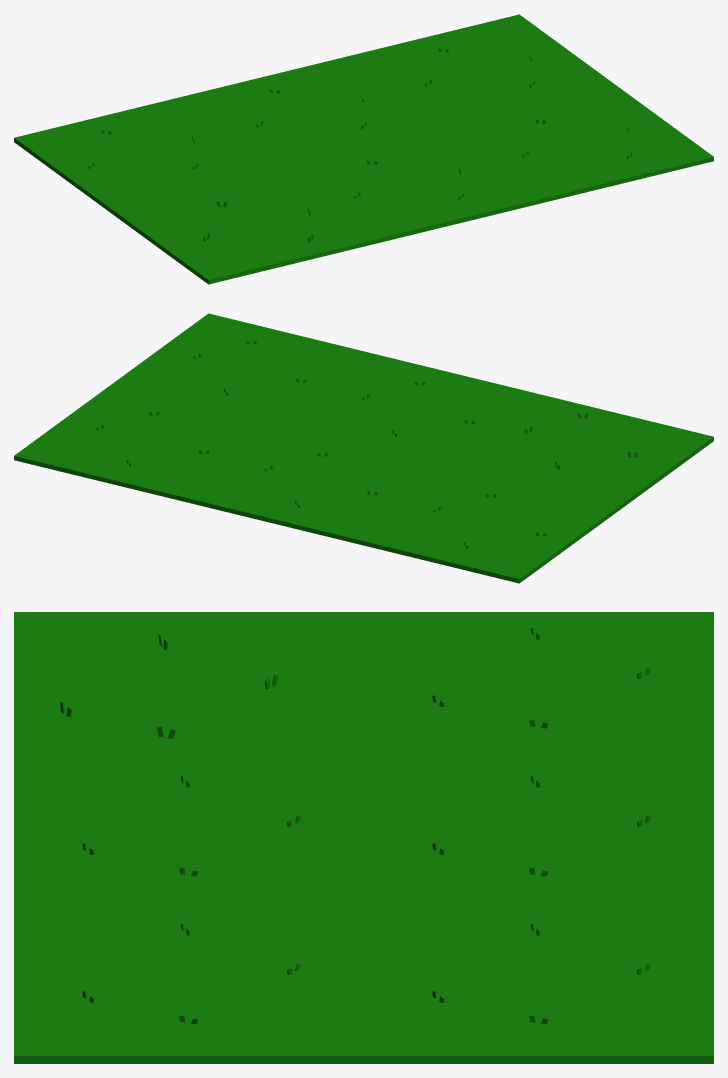
File: Tile4x6Planta.fbx
The picture shows the model from 3 angles, top to bottom: view 1: azimuth 30°, elevation 25°; view 2: azimuth 150°, elevation 25°; view 3: azimuth 270°, elevation 25°; orthographic projection. The views are drawn at different scales.
Parts seen in each view (by area): view 1: TilePlanta4x6; view 2: TilePlanta4x6; view 3: TilePlanta4x6.
Part boxes in pixels (<box>): TilePlanta4x6: <box>14,14,713,284</box>; TilePlanta4x6: <box>14,313,713,583</box>; TilePlanta4x6: <box>14,612,713,1063</box>.
Bounding box in the file's own units: 1200 × 22.9 × 800.
